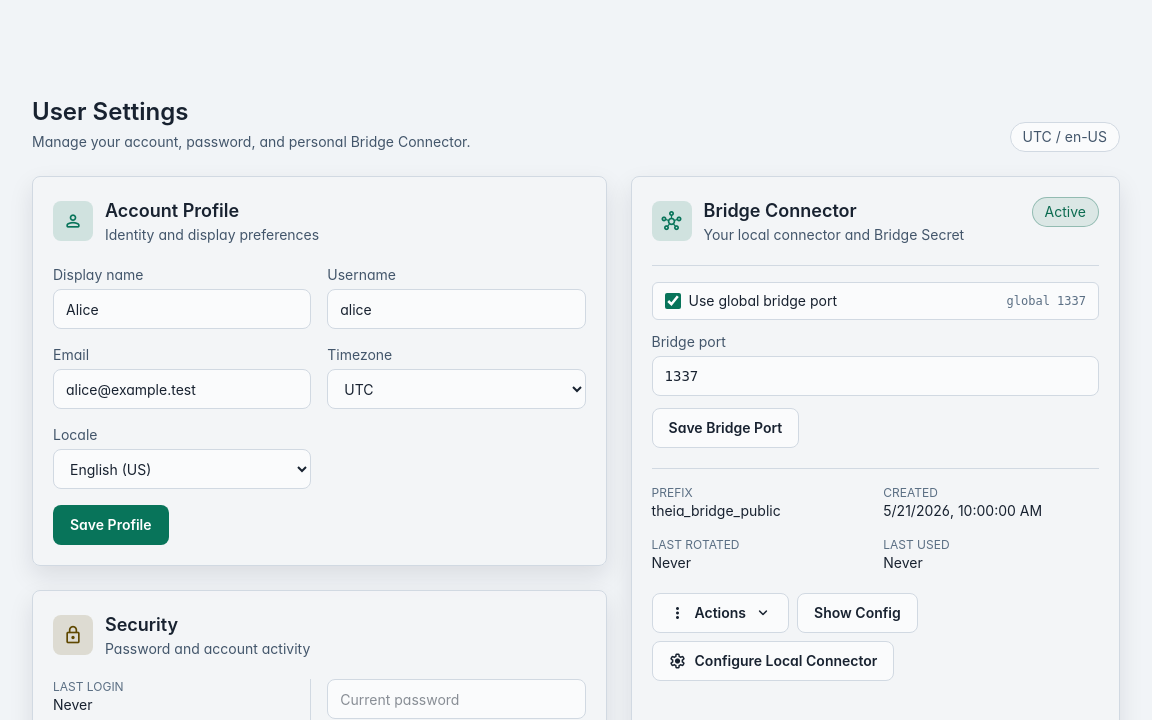
Test: UserSettingsPage › renders unavailable connector binaries as disabled buttons and includes macOS targets
This screenshot has width=1152, height=720.
Expected: the heading "User Settings" is shown, [32,97,188,126]
Click the button with aria-label "Bridge connector actions" at (720, 613), box [652,593,789,633]
(page scrolled)
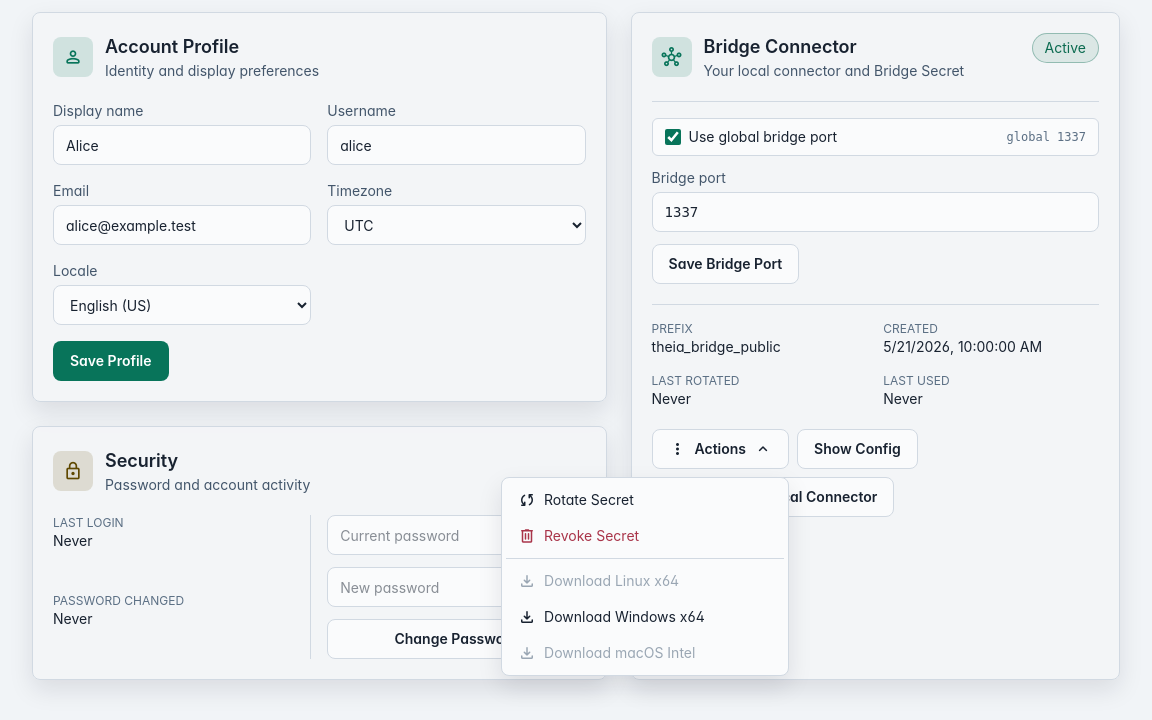
Now the menu item "Download Linux x64" is disabled, box [506,563,784,599]
Now the menu item "Download macOS Intel" is disabled, box [506,635,784,671]
